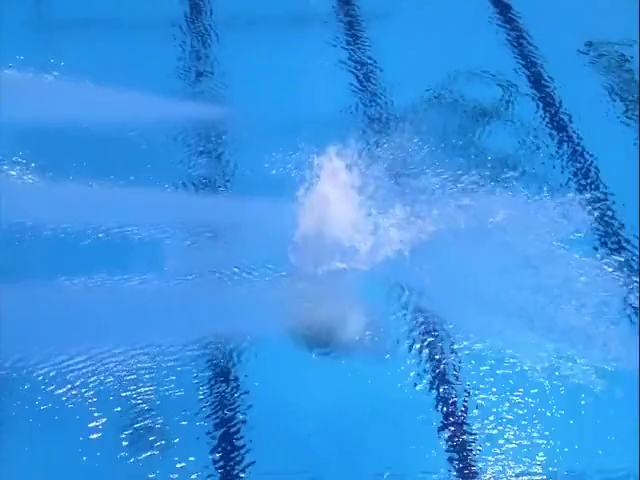splash: (284, 143, 424, 275)
